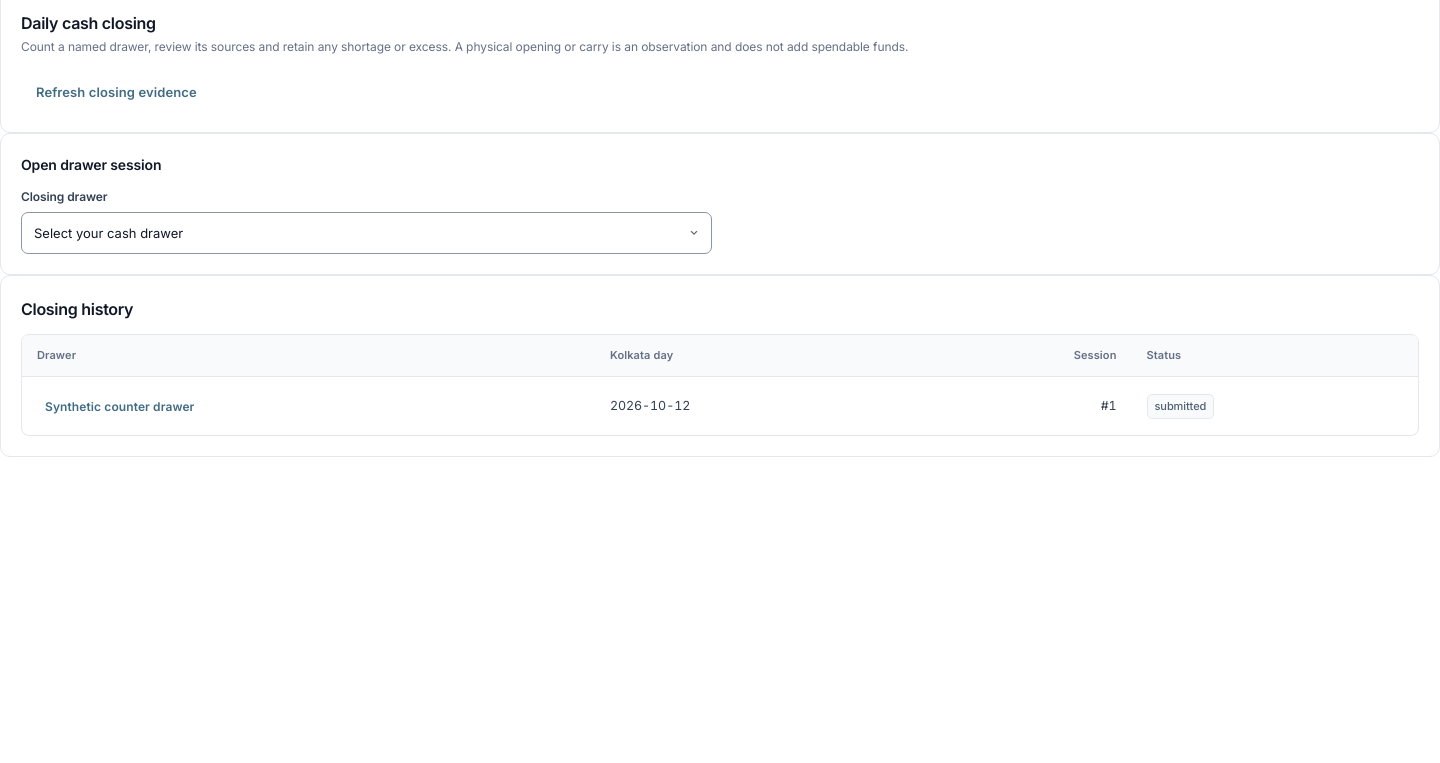
Test: cash closing controlled transport and evidence validation › keeps prior approval separate from reopened checklist work and labels approved late evidence
Click the button with aria-label "Synthetic counter drawer ·": [120, 406] box [37, 389, 202, 423]
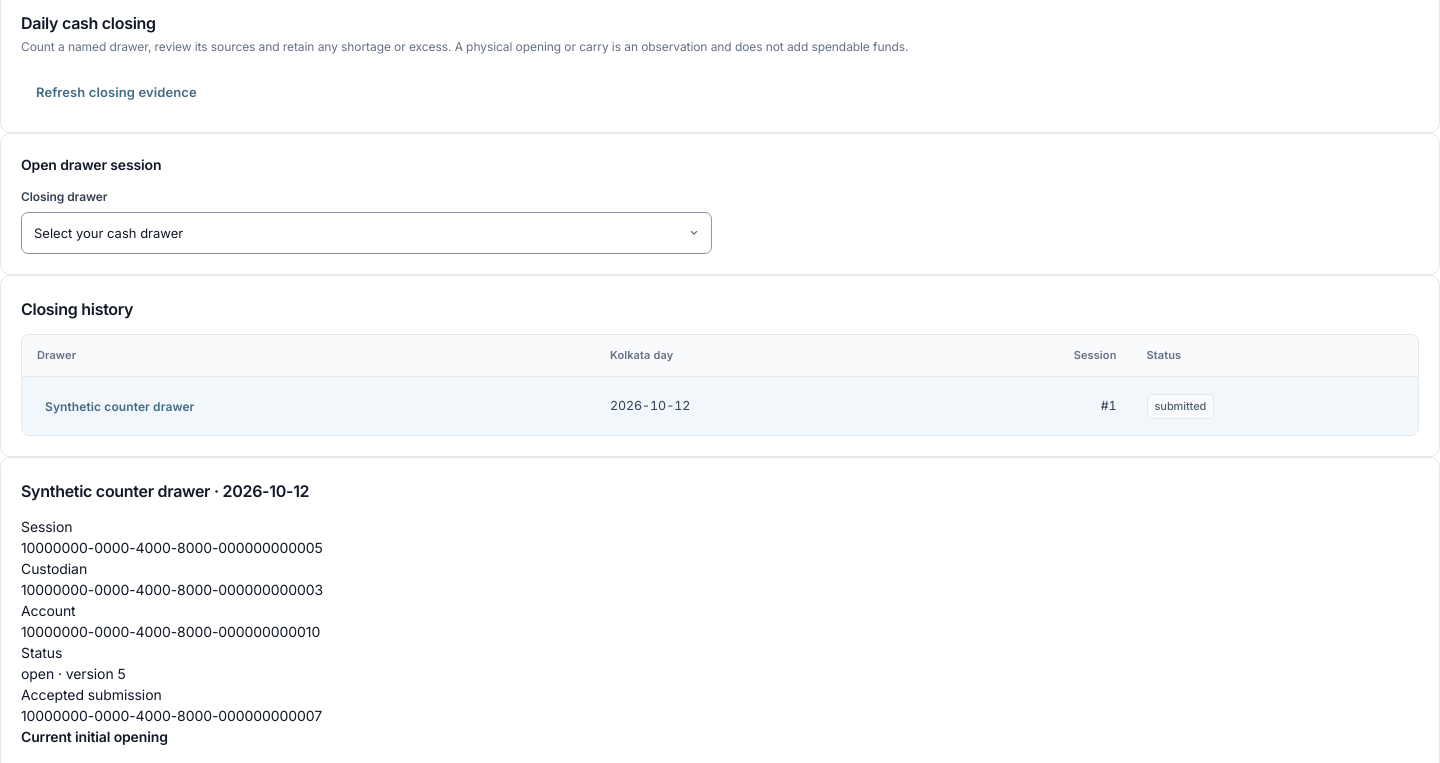
Click the button "Refresh closing evidence": [116, 92] box [21, 72, 212, 112]
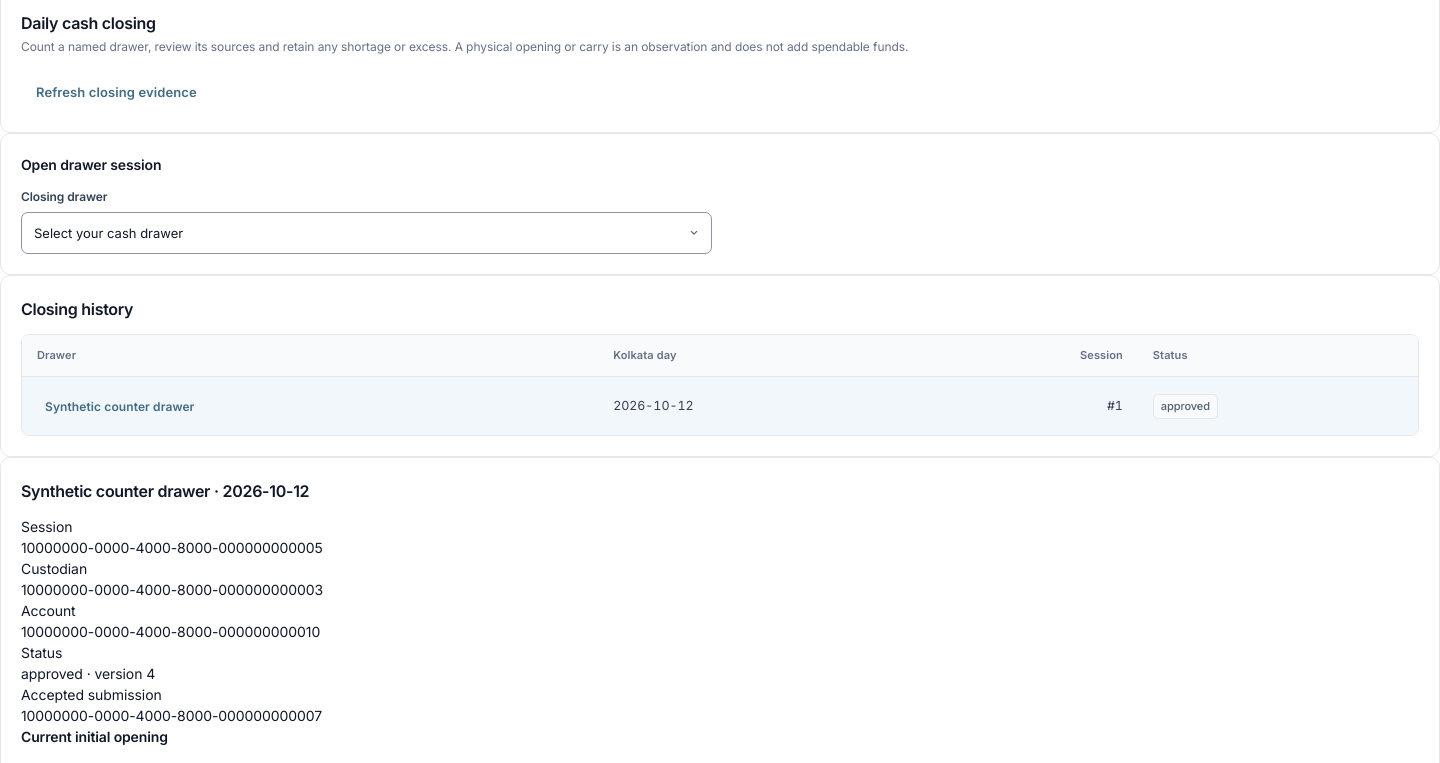
Click the button "Refresh closing evidence": [116, 92] box [21, 72, 212, 112]
(page scrolled)
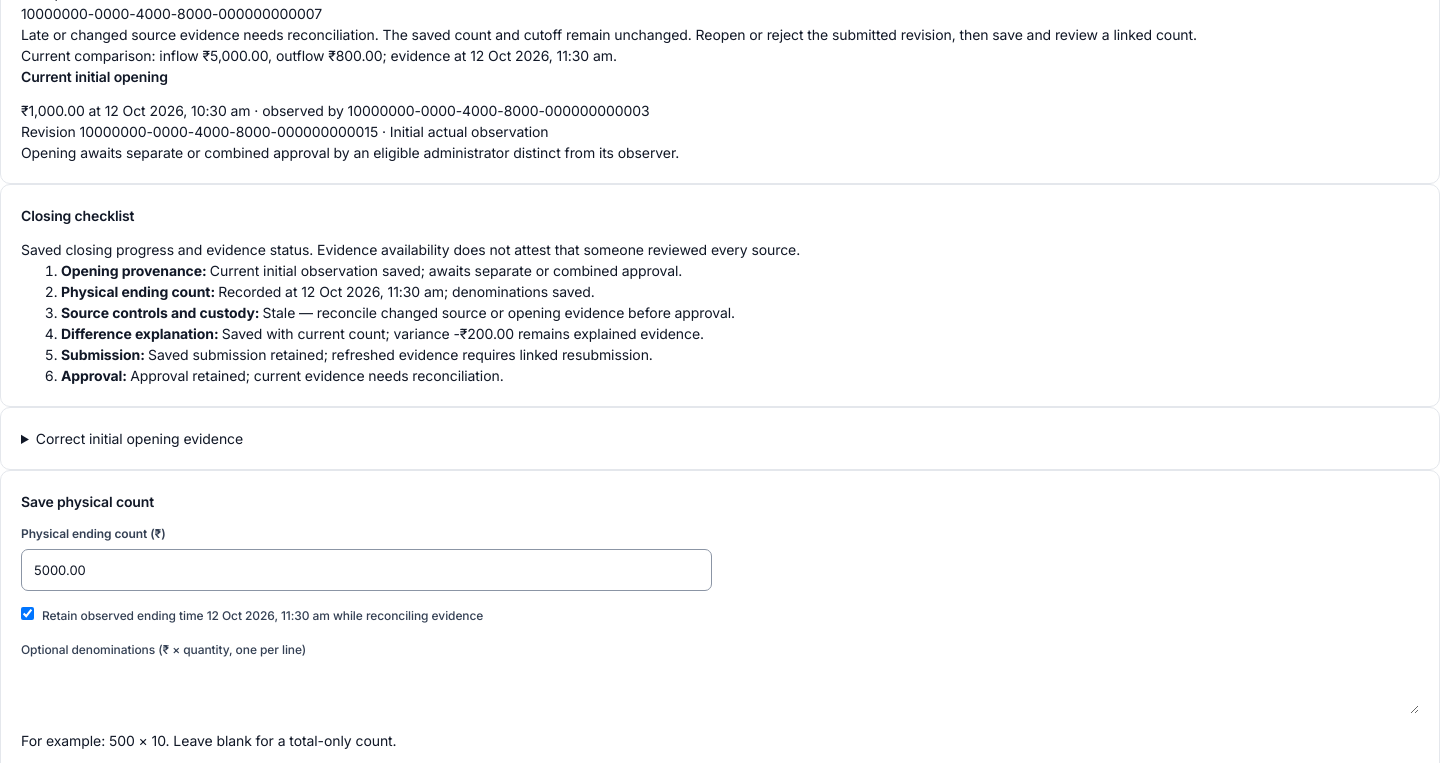
Expected: the list item "Approval retained; current evidence needs reconciliation." is shown, [130, 367, 504, 384]
